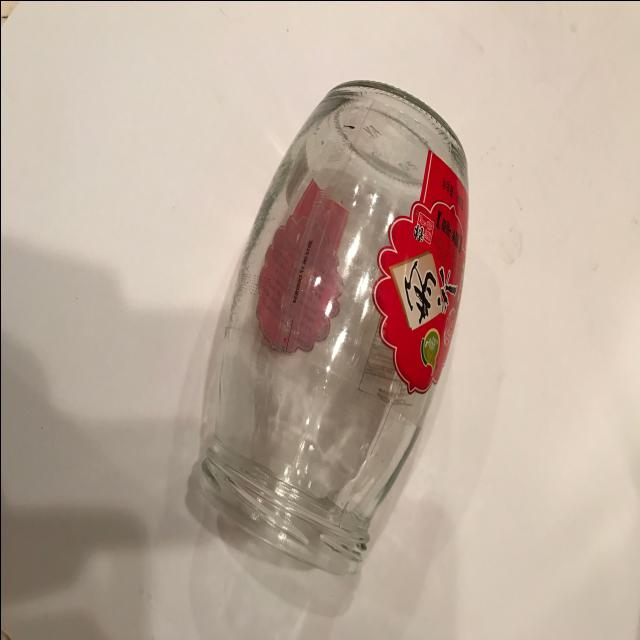glass: (182, 72, 473, 580)
